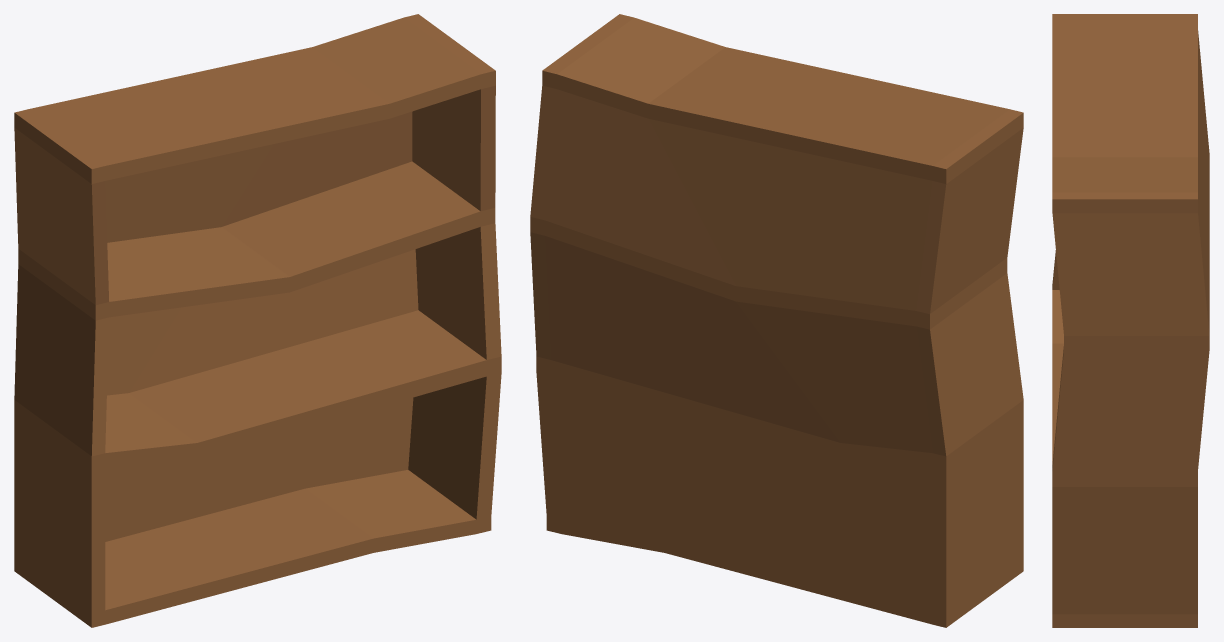
Rendered from Closet6.fbx.
3 renders of one model, left to right at view 1: azimuth 30°, elevation 25°; view 2: azimuth 150°, elevation 25°; view 3: azimuth 270°, elevation 25°, orthographic. The views are drawn at different scales.
Parts seen in each view (by area): view 1: Cube.273; view 2: Cube.273; view 3: Cube.273.
Boxes of the visible parts, x1=… form: Cube.273: x1=14, y1=14, x2=501, y2=627; Cube.273: x1=530, y1=14, x2=1023, y2=627; Cube.273: x1=1052, y1=14, x2=1209, y2=627.
Bounding box in the file's own units: 611 × 654 × 216.
